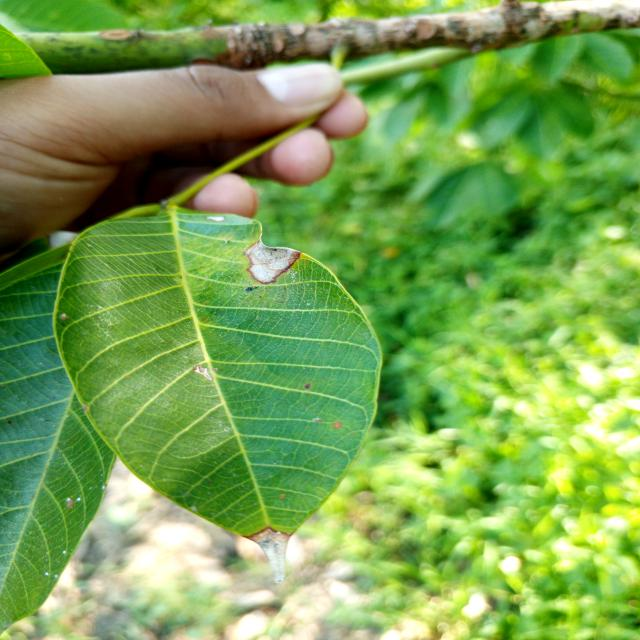Colletotrichum: (242, 526, 292, 584), (305, 383, 310, 389)
Leaf-Blight: (244, 232, 300, 284), (207, 216, 225, 221)
